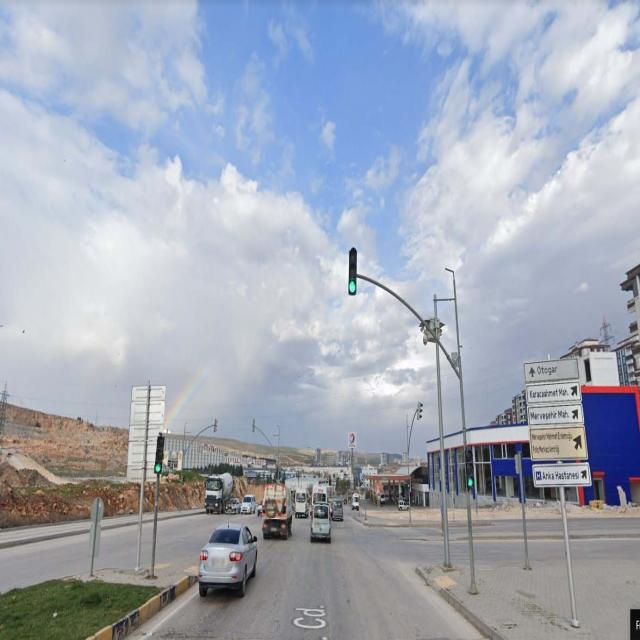yesil: (348, 249, 356, 295), (466, 451, 474, 489), (155, 436, 162, 473)
